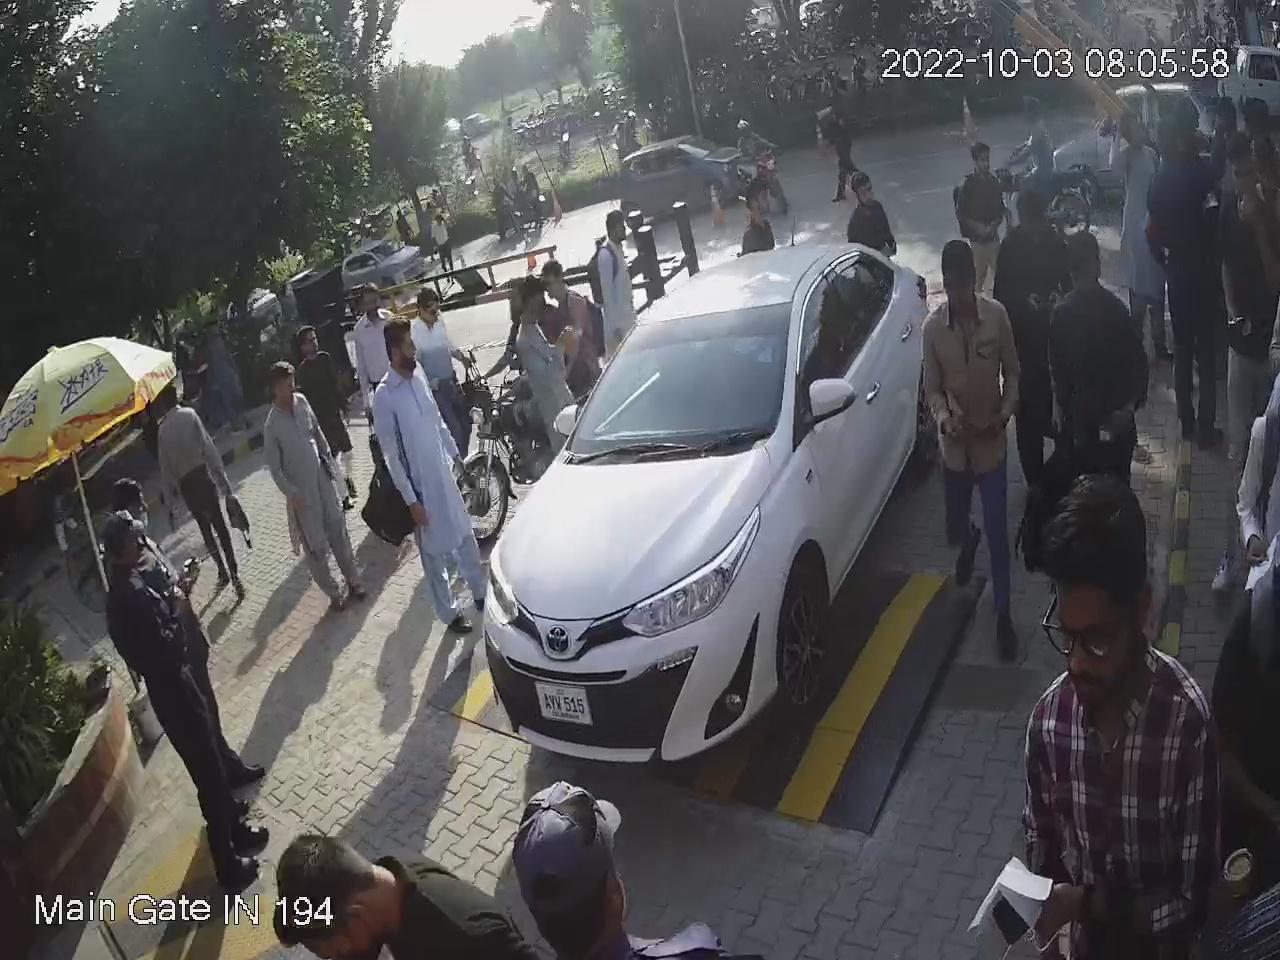windshield: (555, 301, 795, 463)
